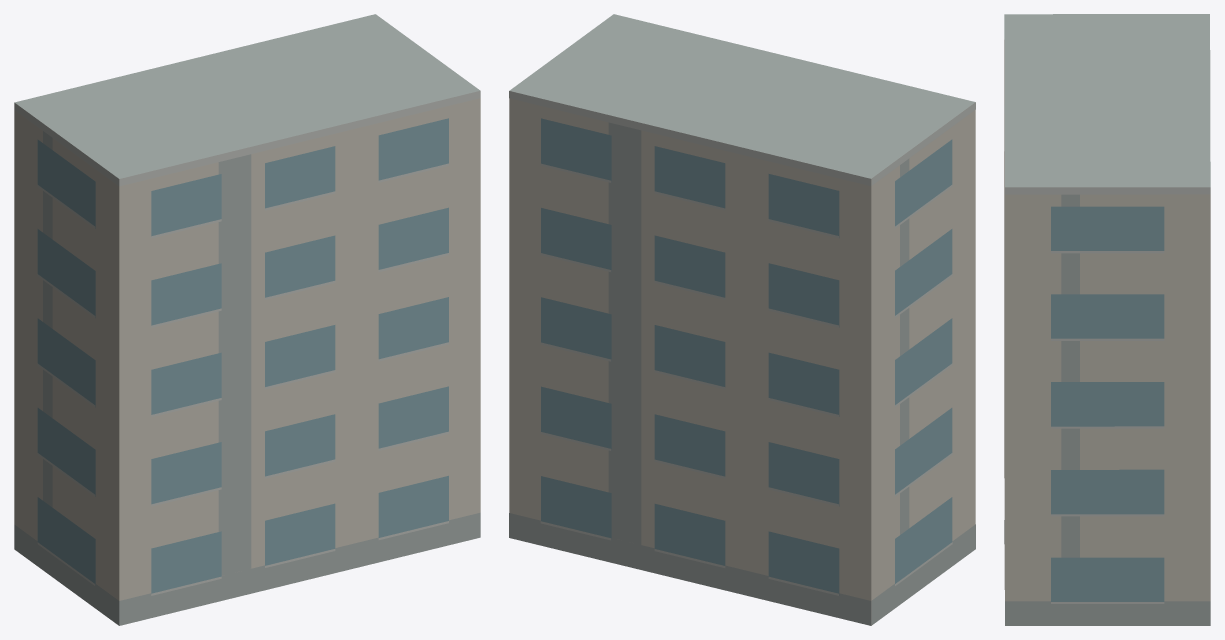
File: survey-upis-32728768.glb
3 renders of one model, left to right at view 1: azimuth 30°, elevation 25°; view 2: azimuth 150°, elevation 25°; view 3: azimuth 270°, elevation 25°, orthographic.
Parts seen in each view (by area): view 1: survey-upis-32728768.tmp; view 2: survey-upis-32728768.tmp; view 3: survey-upis-32728768.tmp.
Boxes of the visible parts, x1,y1,x2,y2 form: survey-upis-32728768.tmp: [14, 14, 480, 625]; survey-upis-32728768.tmp: [509, 14, 975, 625]; survey-upis-32728768.tmp: [1004, 14, 1210, 625].
Bounding box in the file's own units: 12.48 × 14.7 × 6.29.
